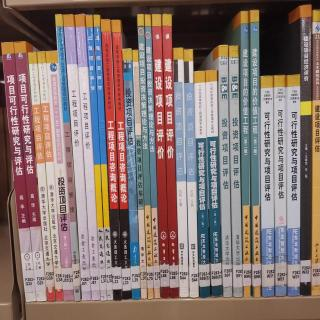book-spine: (1, 41, 36, 303), (13, 41, 47, 302), (63, 14, 91, 301), (73, 15, 101, 302), (54, 13, 81, 301), (45, 51, 75, 302), (26, 52, 56, 302), (37, 48, 64, 301), (100, 20, 123, 302), (92, 14, 114, 302), (85, 15, 107, 301), (111, 18, 133, 301), (151, 14, 171, 300), (137, 13, 155, 299), (162, 13, 180, 298), (121, 48, 141, 299), (144, 13, 161, 300), (182, 50, 201, 298), (247, 10, 263, 298), (173, 47, 190, 299), (131, 49, 148, 300), (227, 47, 244, 298), (194, 71, 212, 298), (217, 45, 233, 298), (206, 72, 223, 297), (300, 5, 313, 298), (240, 12, 251, 298), (286, 74, 300, 297), (261, 76, 275, 298), (274, 75, 286, 298), (312, 8, 320, 297)
